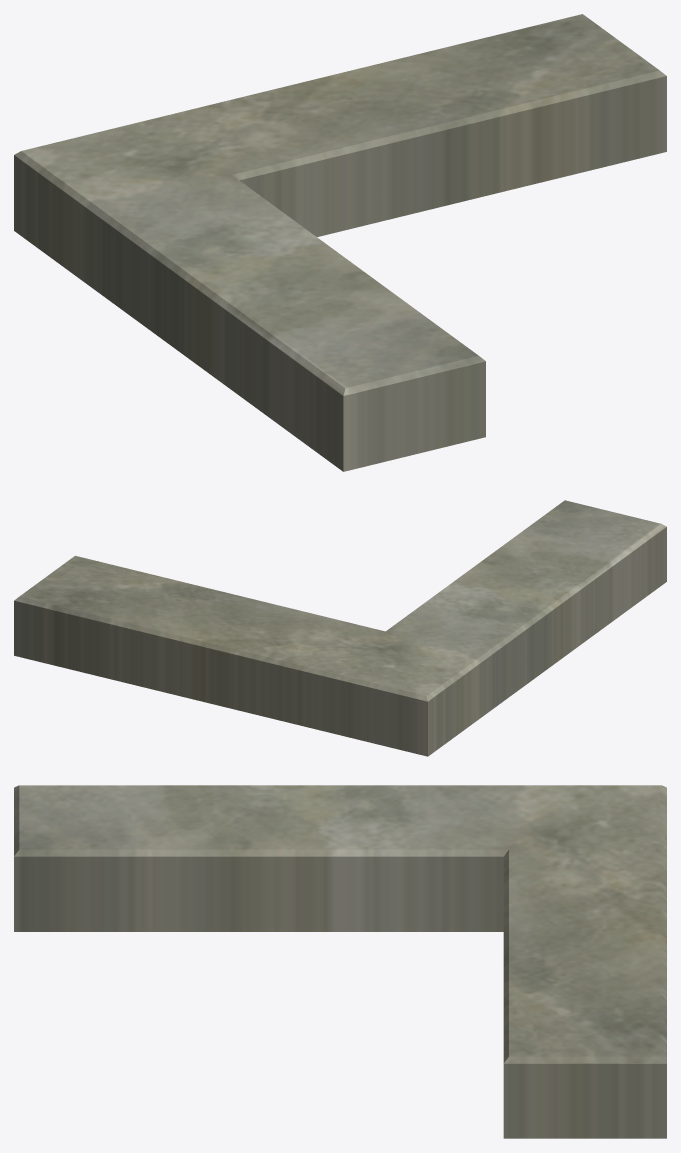
File: f03-s-stone-l-corner-showcase-north-west.glb
The picture shows the model from 3 angles, top to bottom: view 1: azimuth 30°, elevation 25°; view 2: azimuth 150°, elevation 25°; view 3: azimuth 270°, elevation 25°; orthographic projection. The views are drawn at different scales.
Parts seen in each view (by area): view 1: f03-s-stone-l-corner-showcase-north-west; view 2: f03-s-stone-l-corner-showcase-north-west; view 3: f03-s-stone-l-corner-showcase-north-west.
Boxes of the visible parts, x1,y1,x2,y2 form: f03-s-stone-l-corner-showcase-north-west: (14,14,666,471); f03-s-stone-l-corner-showcase-north-west: (14,500,666,756); f03-s-stone-l-corner-showcase-north-west: (14,785,666,1138).
Bounding box in the file's own units: 1 × 0.135 × 1.
1 material, 1 textured.
